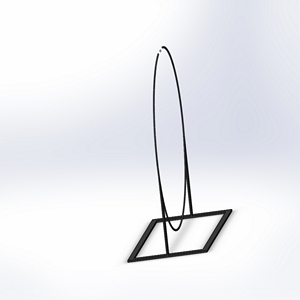circle: (124, 44, 233, 263)
